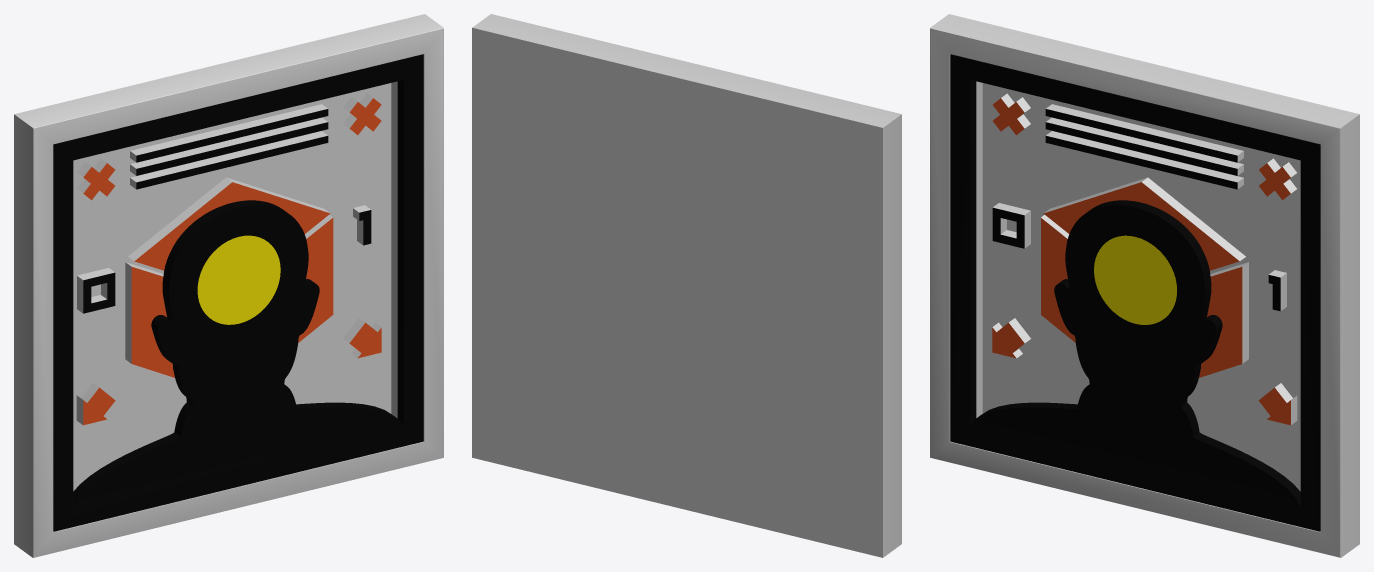
File: AR_triger_card6_NEW.gltf
3 renders of one model, left to right at view 1: azimuth 30°, elevation 25°; view 2: azimuth 150°, elevation 25°; view 3: azimuth 330°, elevation 25°, orthographic.
Visible parts, largest first — view 1: Куб, Curve, Куб_2, Curve002, Куб_1; view 2: Куб; view 3: Куб, Curve, Куб_2, Куб_1, Curve002.
Boxes of the visible parts, bbox=[...] form: Куб: bbox=[14, 14, 443, 557]; Curve: bbox=[53, 54, 423, 531]; Куб_2: bbox=[83, 98, 381, 425]; Curve002: bbox=[197, 235, 280, 324]; Куб_1: bbox=[83, 109, 371, 313]; Куб: bbox=[472, 14, 901, 557]; Куб: bbox=[930, 14, 1359, 557]; Curve: bbox=[950, 54, 1320, 531]; Куб_2: bbox=[992, 98, 1290, 425]; Куб_1: bbox=[992, 109, 1280, 311]; Curve002: bbox=[1094, 235, 1176, 324].
Bounding box in the file's own units: 3.67 × 3.67 × 0.2972.
